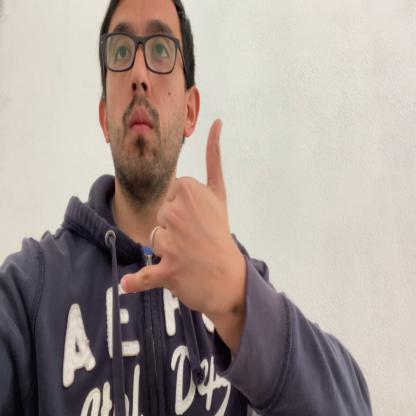Y: (122, 118, 235, 320)
